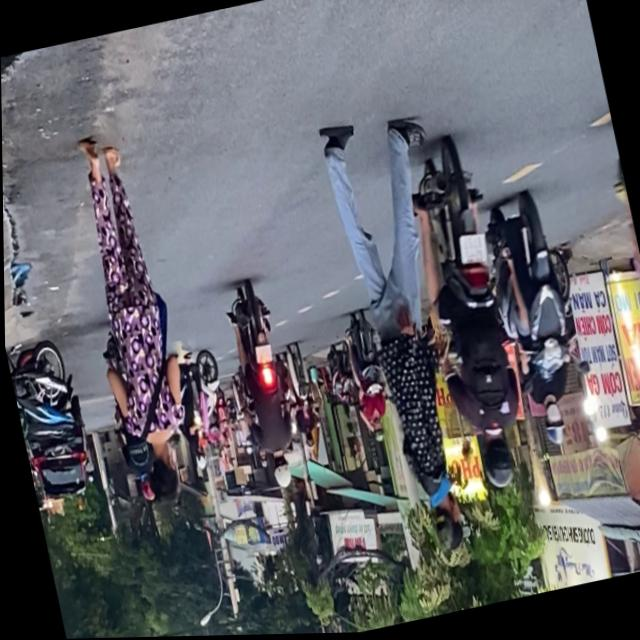helmet: (474, 432, 518, 493), (539, 402, 567, 450), (267, 452, 292, 490)
licenseplate: (392, 133, 545, 502), (477, 187, 596, 456), (217, 278, 307, 495)
nohelmet: (455, 232, 488, 270), (252, 343, 271, 365)
